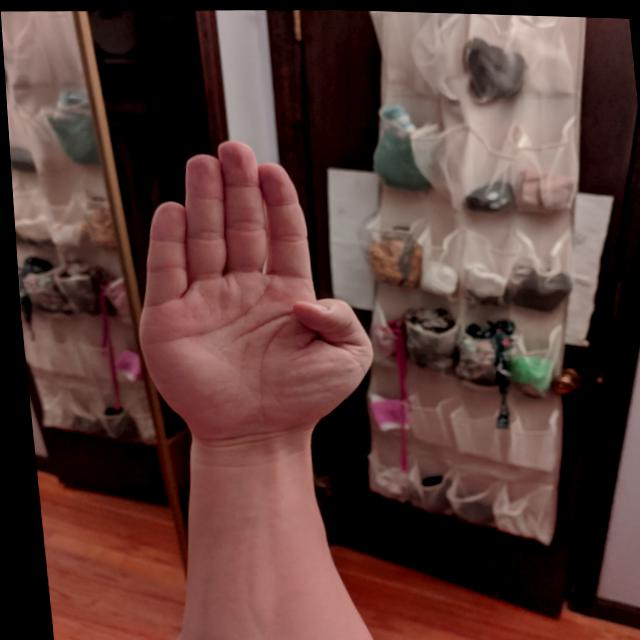B: (108, 126, 382, 448)
